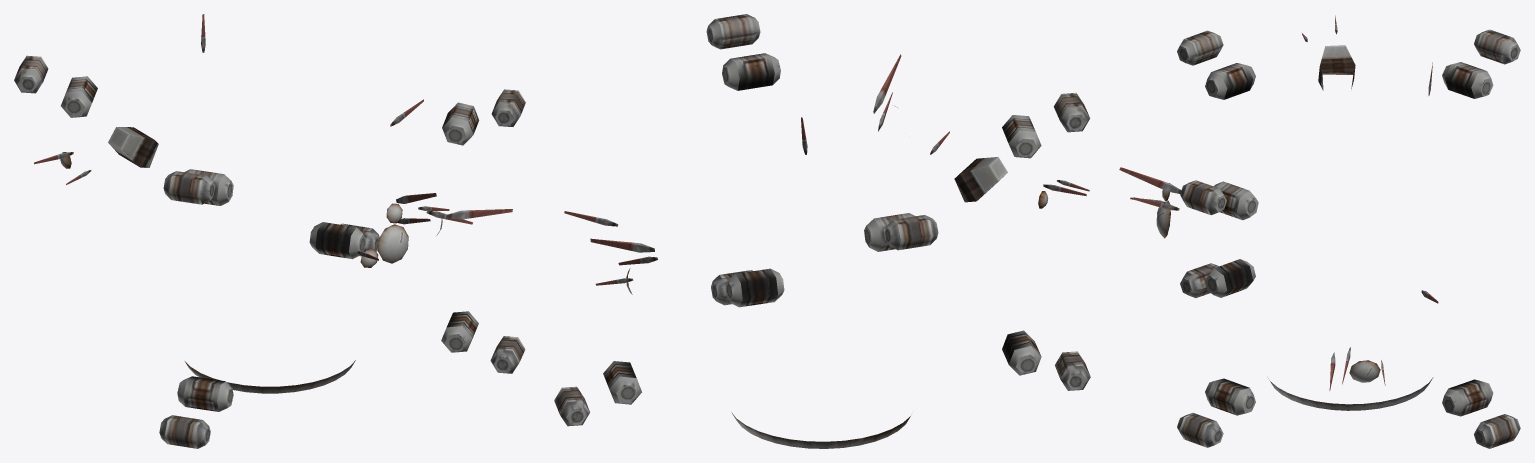
The model's file is ama_inhibitor_platform_01.glb.
3 renders of one model, left to right at view 1: azimuth 30°, elevation 25°; view 2: azimuth 150°, elevation 25°; view 3: azimuth 270°, elevation 25°, orthographic. The views are drawn at different scales.
Visible parts, largest first — view 1: ama_inhibitor_platform_LOD0, ama_inhibitor_platform_disc_01; view 2: ama_inhibitor_platform_LOD0, ama_inhibitor_platform_disc_01; view 3: ama_inhibitor_platform_LOD0, ama_inhibitor_platform_disc_01.
Boxes of the visible parts, x1,y1,x2,y2 form: ama_inhibitor_platform_LOD0: (14,14,525,448); ama_inhibitor_platform_disc_01: (185,360,355,393); ama_inhibitor_platform_LOD0: (554,14,1090,426); ama_inhibitor_platform_disc_01: (731,412,910,448); ama_inhibitor_platform_LOD0: (1119,15,1520,448); ama_inhibitor_platform_disc_01: (1268,377,1433,410).
Size of what is drawn, in the model's own units: 3.43 by 2.19 by 2.63.
Materials: 1 (1 with a texture image).
